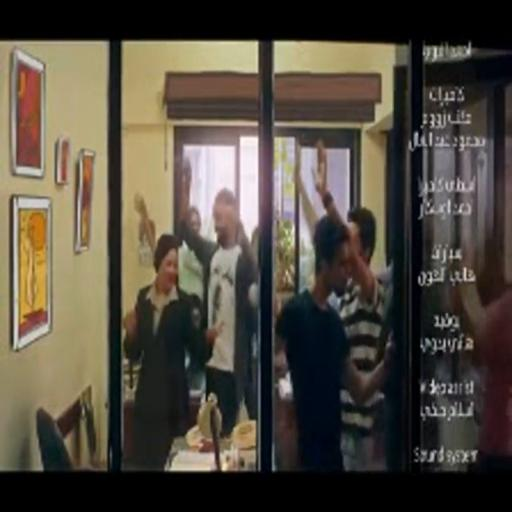nao-violencia: (120, 146, 264, 472)
